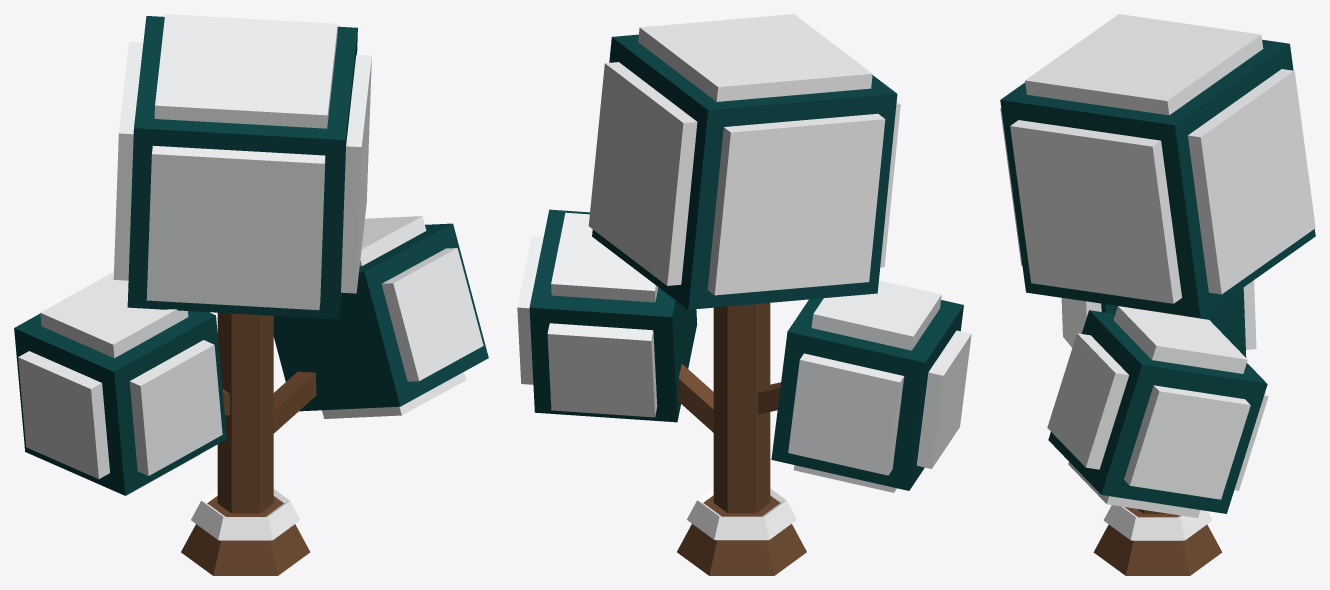
Rendered from Mesh_Tree_Secamore.glb.
The picture shows the model from 3 angles, left to right: view 1: azimuth 30°, elevation 25°; view 2: azimuth 150°, elevation 25°; view 3: azimuth 270°, elevation 25°; orthographic projection.
Visible parts, largest first — view 1: Mesh_Tree_Secamore; view 2: Mesh_Tree_Secamore; view 3: Mesh_Tree_Secamore.
Part boxes in pixels (x1,y1,x2,y2): Mesh_Tree_Secamore: [14, 14, 488, 575]; Mesh_Tree_Secamore: [517, 14, 971, 575]; Mesh_Tree_Secamore: [1000, 14, 1315, 575].
Size of the model in its own units: 1.39 by 1.56 by 0.8845.
Materials: 1 (1 with a texture image).
